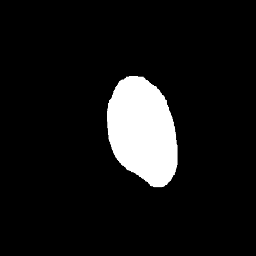mass: (105, 79, 174, 176)
